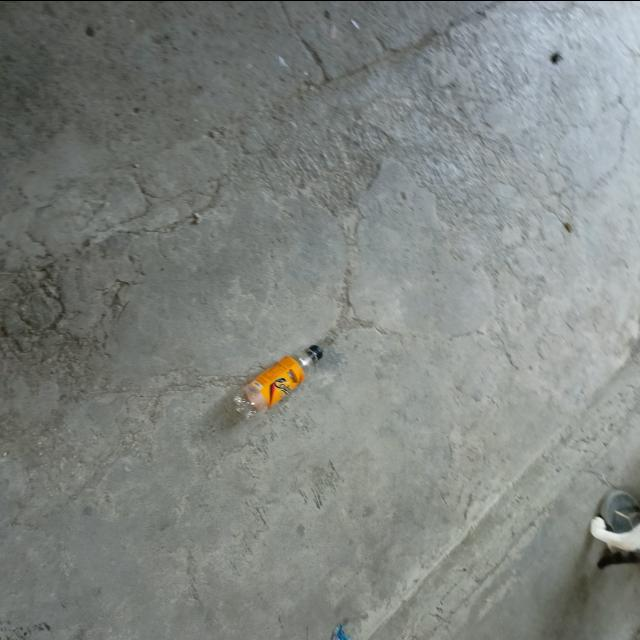Bottle: (233, 343, 323, 419)
